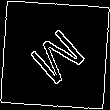M_SE: (21, 21, 89, 89)
